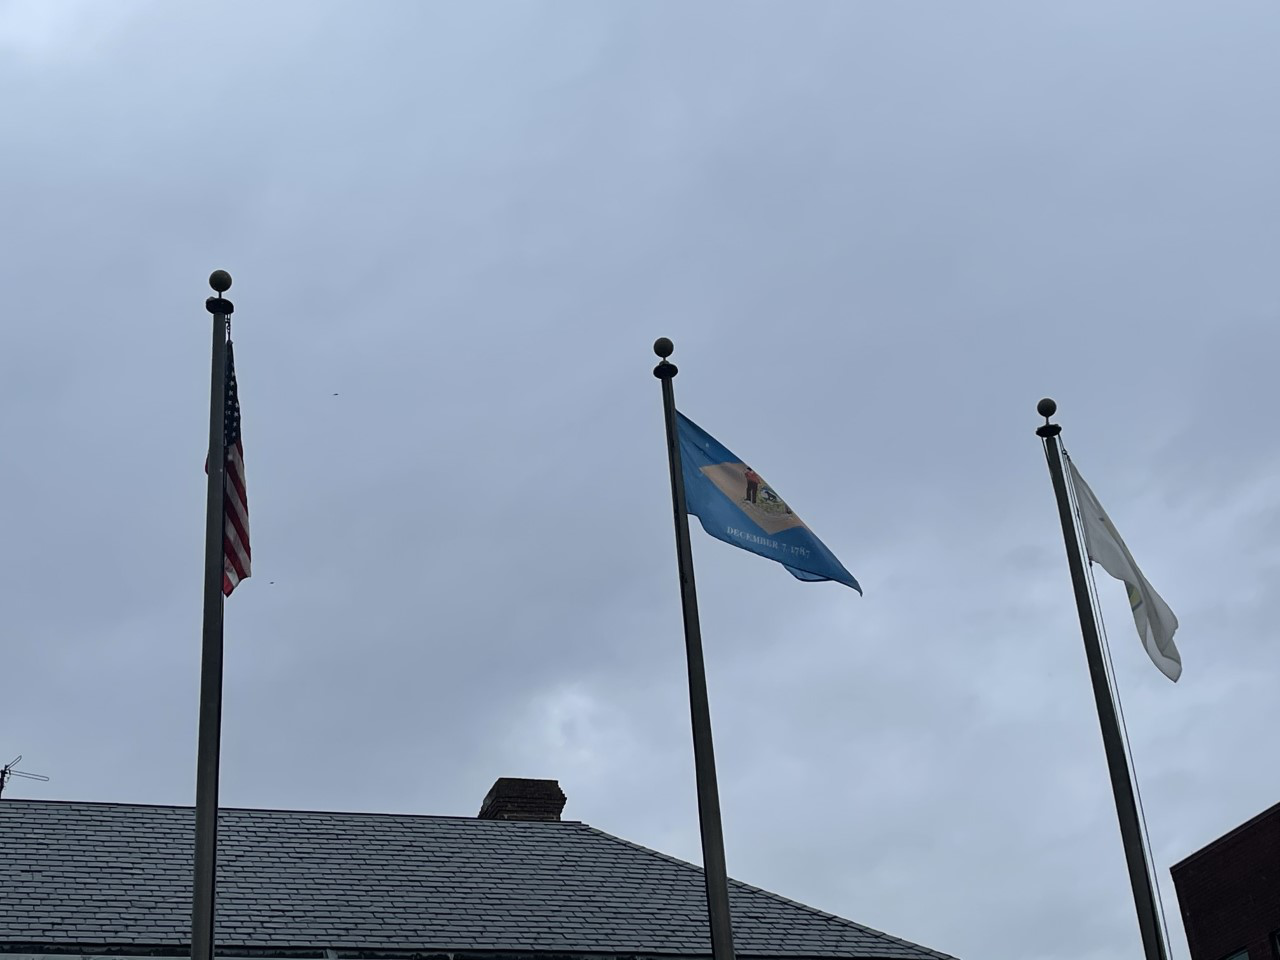America flag: (213, 324, 265, 605)
Delaware flag: (669, 396, 879, 595)
